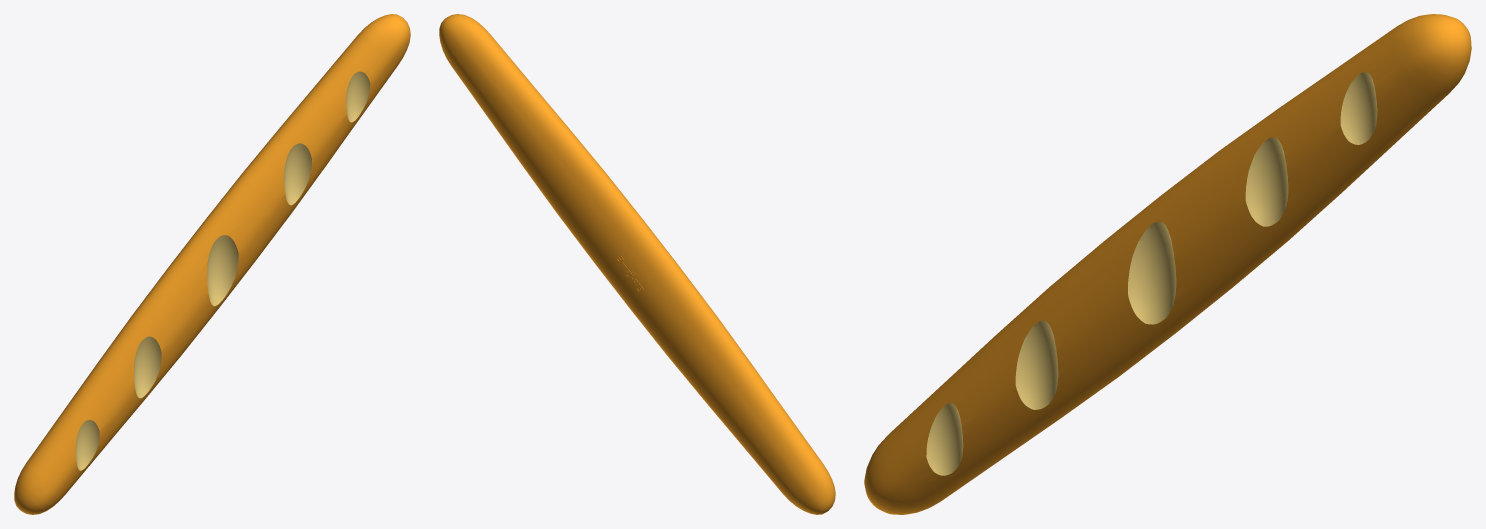
File: baguette_bread.fbx
3 renders of one model, left to right at view 1: azimuth 30°, elevation 25°; view 2: azimuth 150°, elevation 25°; view 3: azimuth 330°, elevation 25°, orthographic. The views are drawn at different scales.
Visible parts, largest first — view 1: Cylinder.349; view 2: Cylinder.349; view 3: Cylinder.349.
Part boxes in pixels (x1=…): Cylinder.349: x1=14, y1=14, x2=410, y2=514; Cylinder.349: x1=439, y1=14, x2=835, y2=514; Cylinder.349: x1=864, y1=14, x2=1471, y2=514.
Size of the model in its own units: 216 by 216 by 20.17.
Materials: 1 (1 with a texture image).
